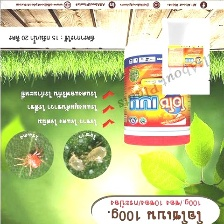insecticide: (121, 37, 195, 147), (159, 15, 216, 98)
